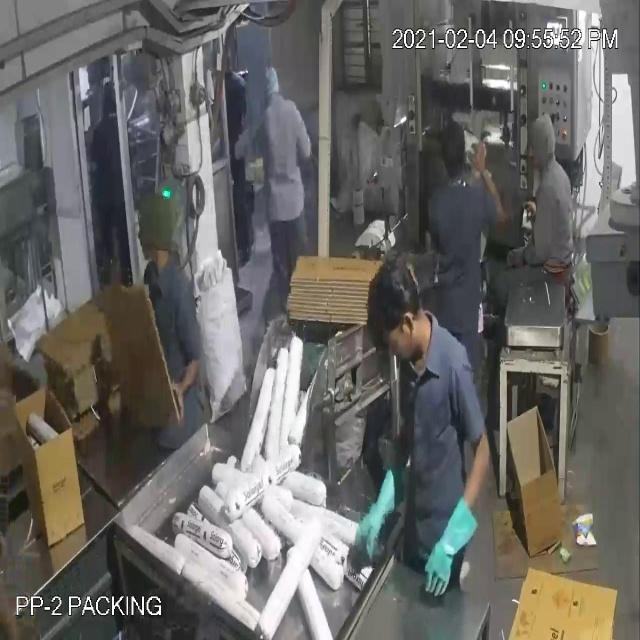Guantes: (418, 494, 487, 610), (346, 457, 414, 565)
Sin_guantes: (466, 128, 515, 256), (149, 342, 218, 422)
